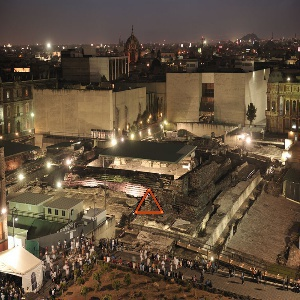triangle: (133, 185, 165, 216)
